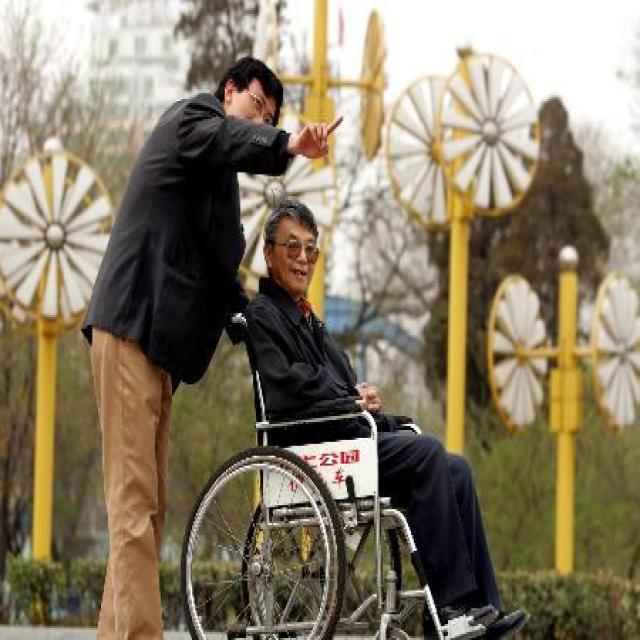wheelchairs: (175, 292, 530, 640)
